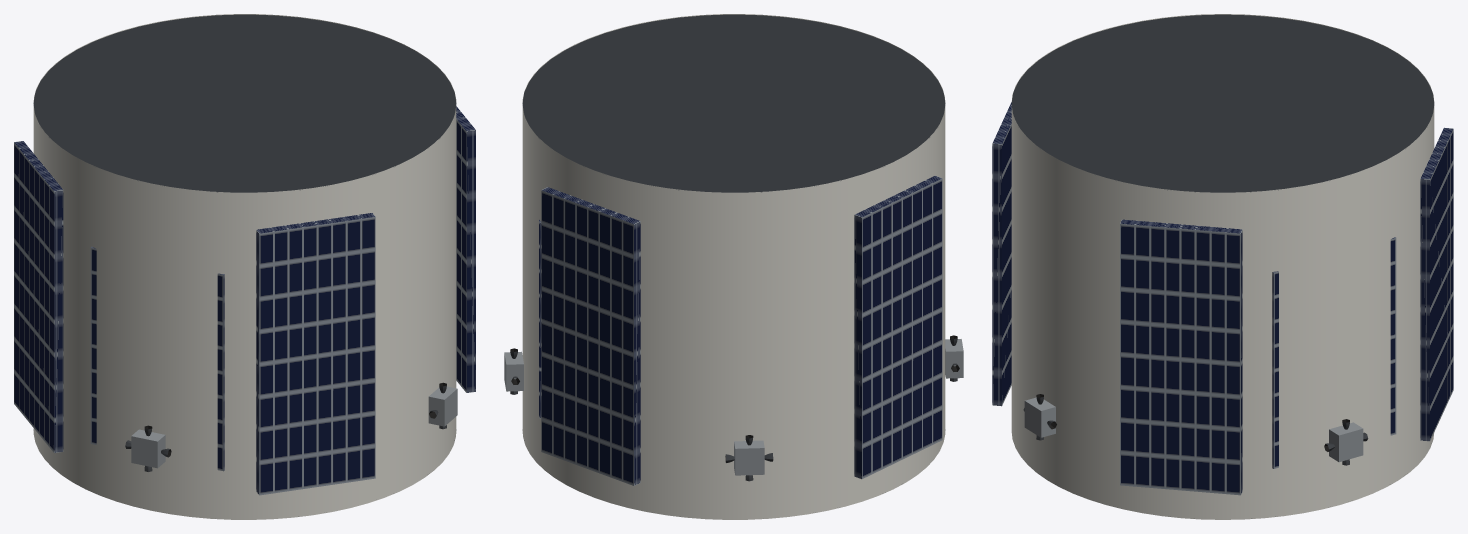
Rendered from atv_propulsion.glb.
3 renders of one model, left to right at view 1: azimuth 30°, elevation 25°; view 2: azimuth 150°, elevation 25°; view 3: azimuth 270°, elevation 25°, orthographic.
Visible parts, largest first — view 1: body, slot_power; view 2: body, slot_power; view 3: body, slot_power.
Part boxes in pixels (x1,y1,x2,y2): body: (14, 14, 475, 519); slot_power: (90, 246, 224, 471); body: (504, 14, 963, 519); slot_power: (539, 220, 541, 418); body: (992, 14, 1453, 519); slot_power: (1272, 237, 1396, 468).
Size of the model in its own units: 2.81 by 2.21 by 2.81.
Materials: 10 (1 with a texture image).
